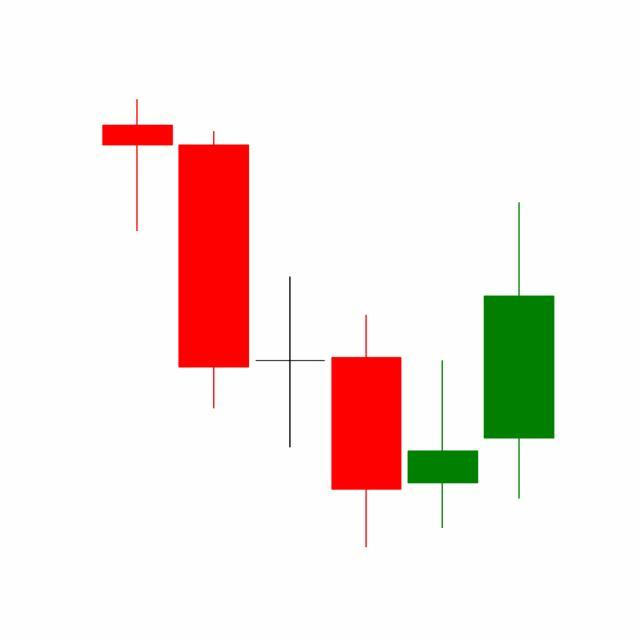Hikkake Pattern: (175, 127, 555, 549)
